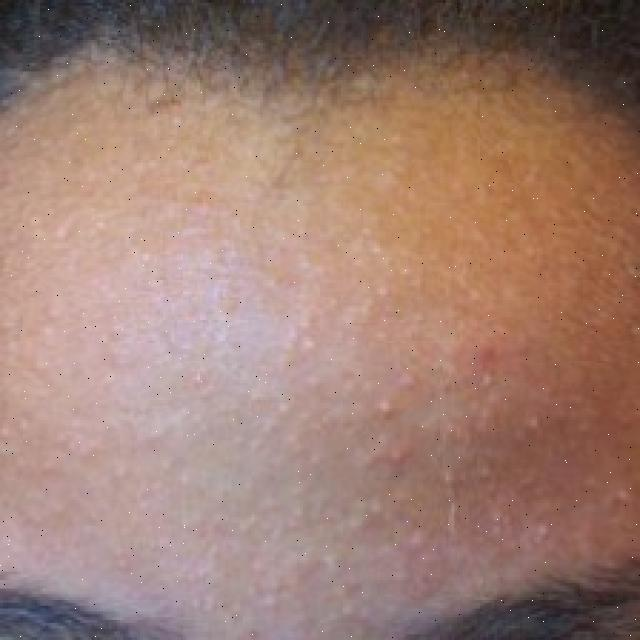Acne: (64, 100, 602, 580)
